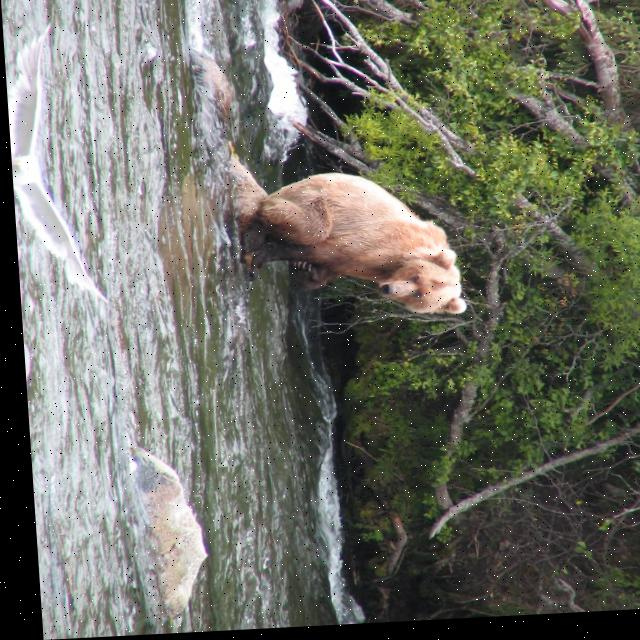bear face: (233, 169, 463, 330)
